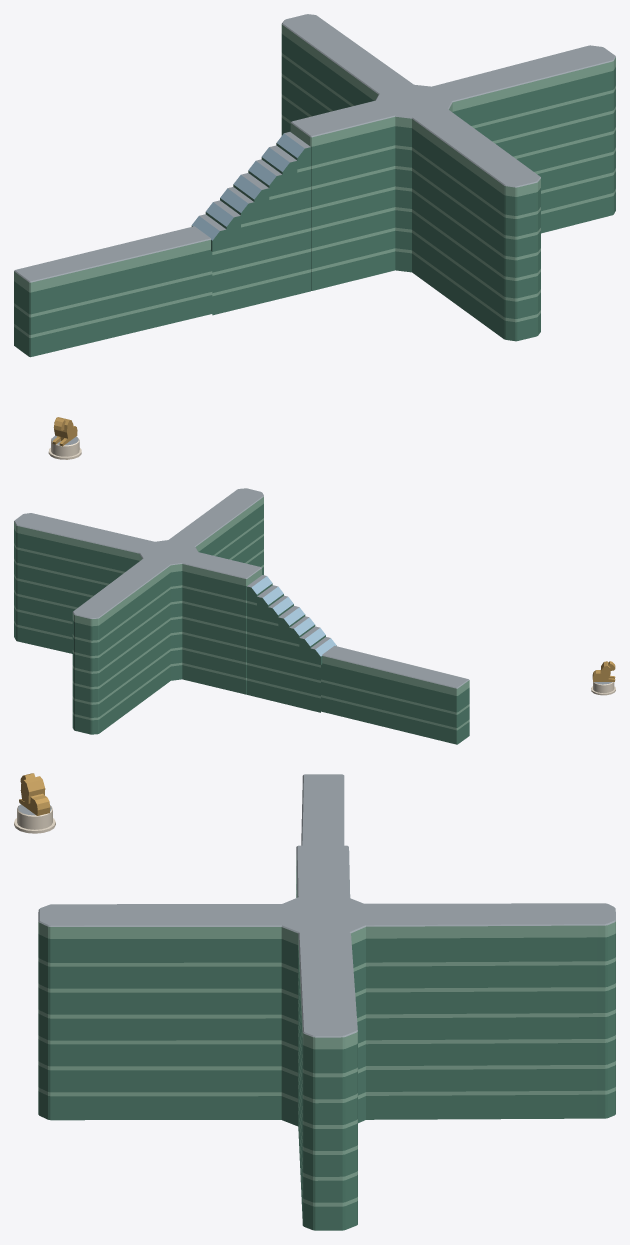
The model's file is detail.glb.
3 renders of one model, top to bottom at view 1: azimuth 30°, elevation 25°; view 2: azimuth 150°, elevation 25°; view 3: azimuth 270°, elevation 25°, orthographic. The views are drawn at different scales.
Parts seen in each view (by area): view 1: mgm-grand-las-vegas; view 2: mgm-grand-las-vegas; view 3: mgm-grand-las-vegas.
Part boxes in pixels (<box>): mgm-grand-las-vegas: <box>14,14,615,459</box>; mgm-grand-las-vegas: <box>14,488,615,744</box>; mgm-grand-las-vegas: <box>14,773,615,1230</box>.
Bounding box in the file's own units: 408 × 89 × 250.
